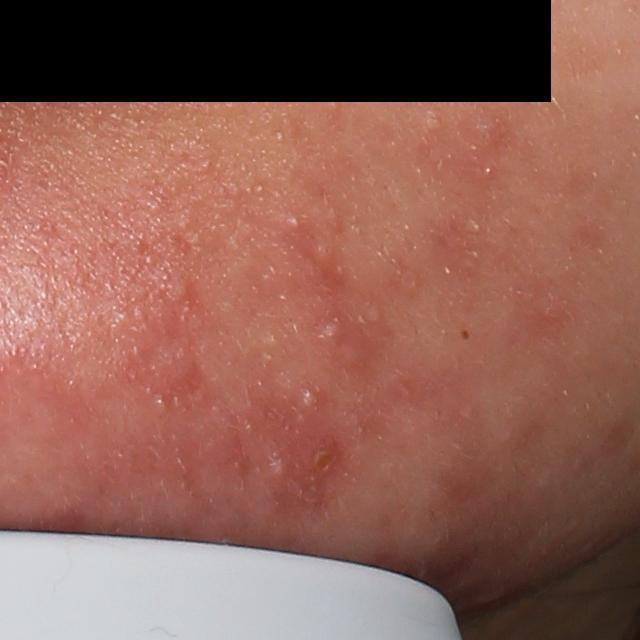comedo: (320, 317, 345, 343), (298, 386, 321, 412), (457, 325, 476, 343)
papule: (307, 441, 342, 479)
